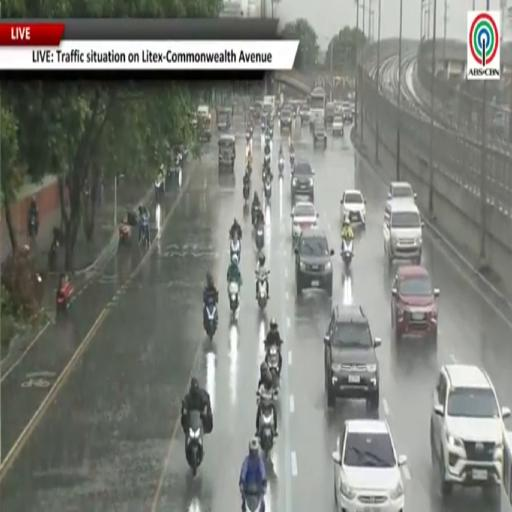bus: (310, 87, 326, 125)
car: (430, 364, 510, 497), (333, 420, 407, 511), (324, 304, 381, 410), (391, 265, 439, 342), (295, 228, 333, 296), (384, 200, 423, 265), (291, 202, 318, 241), (340, 189, 366, 227), (291, 163, 314, 204), (388, 182, 416, 201), (196, 105, 211, 140), (313, 122, 327, 149), (280, 107, 293, 133), (324, 102, 335, 125), (332, 116, 344, 136), (342, 102, 353, 122), (300, 104, 310, 123)
motorcycle: (257, 389, 276, 457), (185, 410, 204, 476), (265, 345, 279, 390), (204, 298, 218, 341), (242, 486, 264, 511), (255, 270, 269, 309), (56, 281, 73, 313), (228, 281, 239, 317), (48, 238, 59, 271), (342, 239, 353, 266), (119, 223, 131, 246), (230, 238, 241, 262), (140, 218, 149, 247), (255, 226, 264, 250), (155, 179, 164, 201), (29, 215, 38, 237), (252, 205, 260, 227), (264, 176, 271, 200), (243, 184, 250, 204), (279, 157, 284, 177), (264, 153, 270, 168), (246, 132, 251, 145), (268, 127, 273, 139), (290, 153, 294, 167)
truck: (310, 87, 326, 132), (264, 95, 275, 118)
